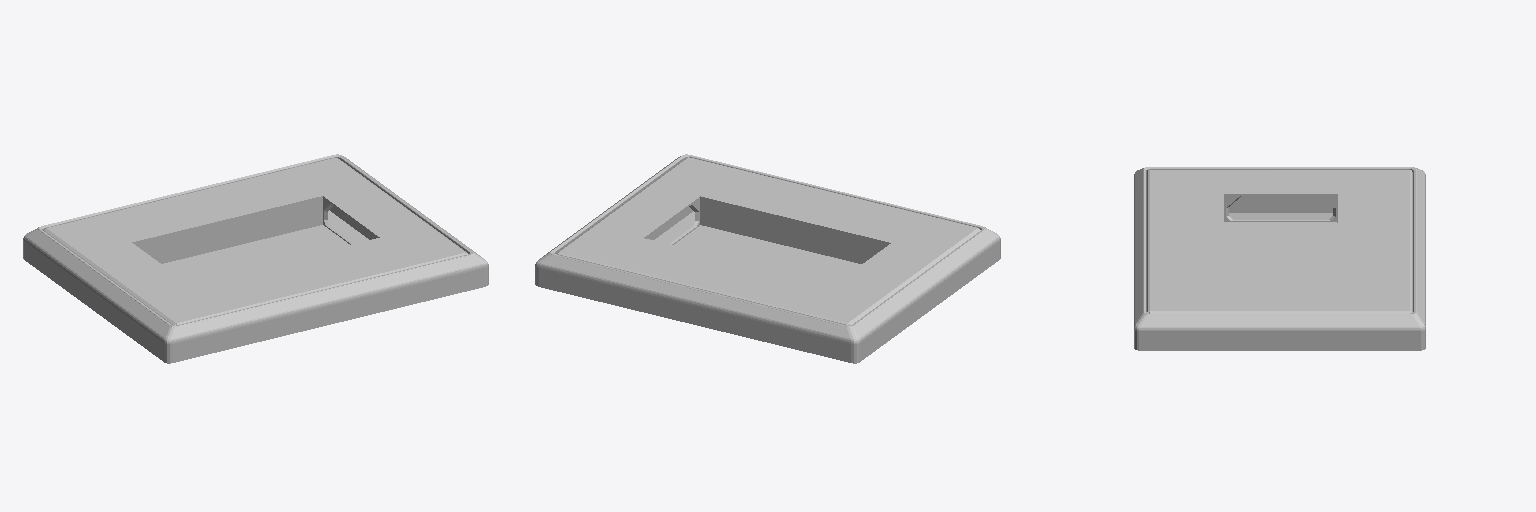
File: table.obj
3 renders of one model, left to right at view 1: azimuth 30°, elevation 25°; view 2: azimuth 150°, elevation 25°; view 3: azimuth 270°, elevation 25°, orthographic.
Visible parts, largest first — view 1: Cube.002, Cube.001_Cube.003; view 2: Cube.002, Cube.001_Cube.003; view 3: Cube.002, Cube.001_Cube.003.
Part boxes in pixels (bbox=[...]): Cube.002: bbox=[23, 154, 488, 363]; Cube.001_Cube.003: bbox=[162, 225, 349, 283]; Cube.002: bbox=[535, 154, 1000, 363]; Cube.001_Cube.003: bbox=[674, 225, 861, 284]; Cube.002: bbox=[1134, 167, 1425, 350]; Cube.001_Cube.003: bbox=[1224, 222, 1336, 286].
Bounding box in the file's own units: 117 × 10.88 × 91.72.